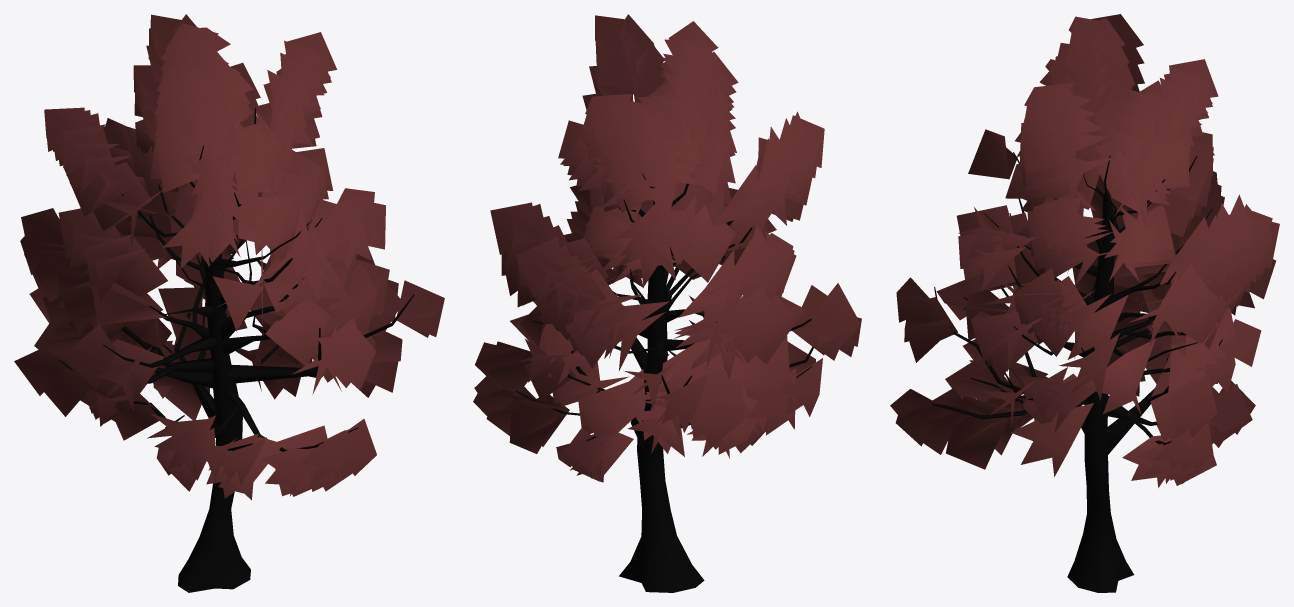
Rendered from MESH_JapaneseBlack_02.fbx.
3 renders of one model, left to right at view 1: azimuth 30°, elevation 25°; view 2: azimuth 150°, elevation 25°; view 3: azimuth 270°, elevation 25°, orthographic. The views are drawn at different scales.
Parts seen in each view (by area): view 1: Mesh_02JapaneseBlackLOD0; view 2: Mesh_02JapaneseBlackLOD0; view 3: Mesh_02JapaneseBlackLOD0.
Boxes of the visible parts, <box> form: Mesh_02JapaneseBlackLOD0: <box>14,14,444,592</box>; Mesh_02JapaneseBlackLOD0: <box>473,14,861,592</box>; Mesh_02JapaneseBlackLOD0: <box>890,14,1279,592</box>.
Size of what is drawn, in the model's own units: 1033 by 1523 by 979.
